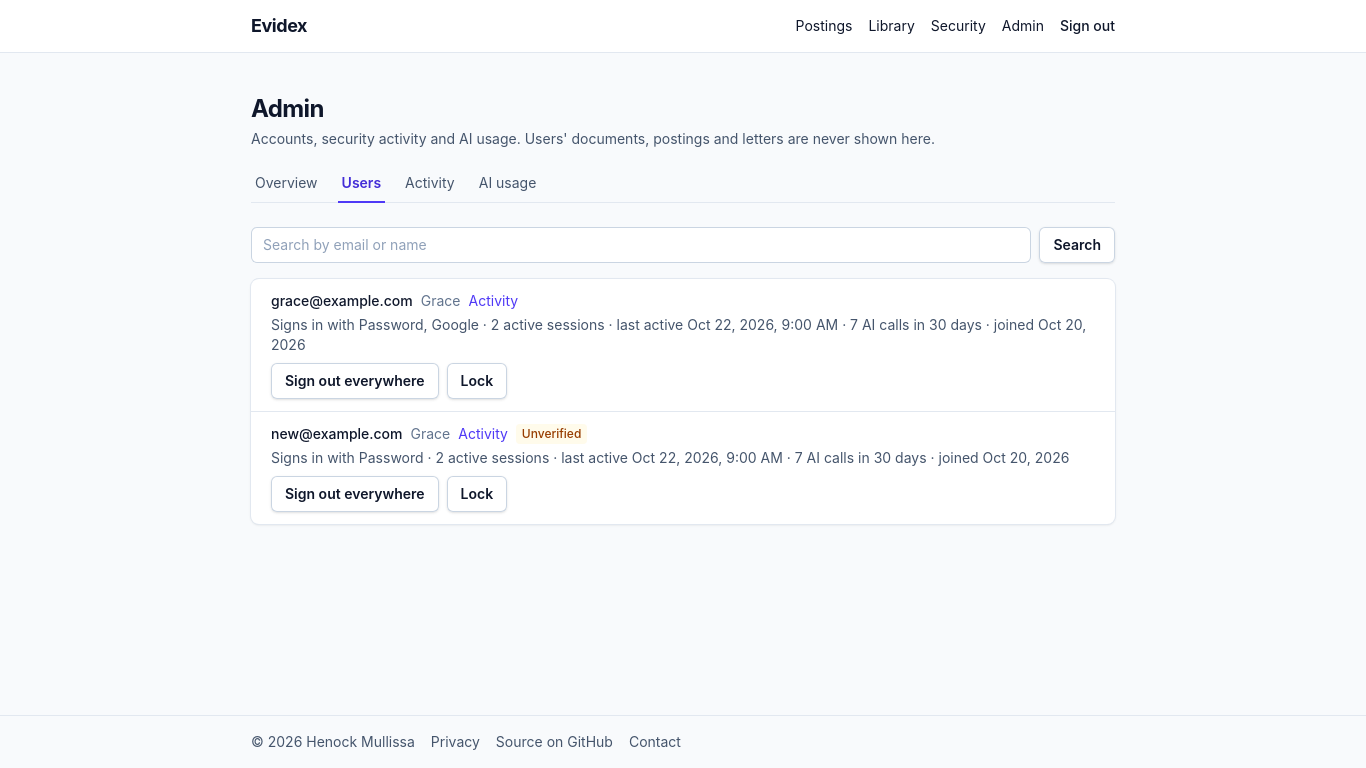
Test: AdminUsersPage › lists accounts with how they sign in and searches them
Expected: the text "grace@example.com" is shown, [271, 291, 413, 311]
Expected: the text "Signs in with Password, Google · 2 active sessions" is shown, [271, 316, 1086, 353]
In the search field labelled "Search by email or name": (641, 245) [251, 227, 1032, 263], type "linus"
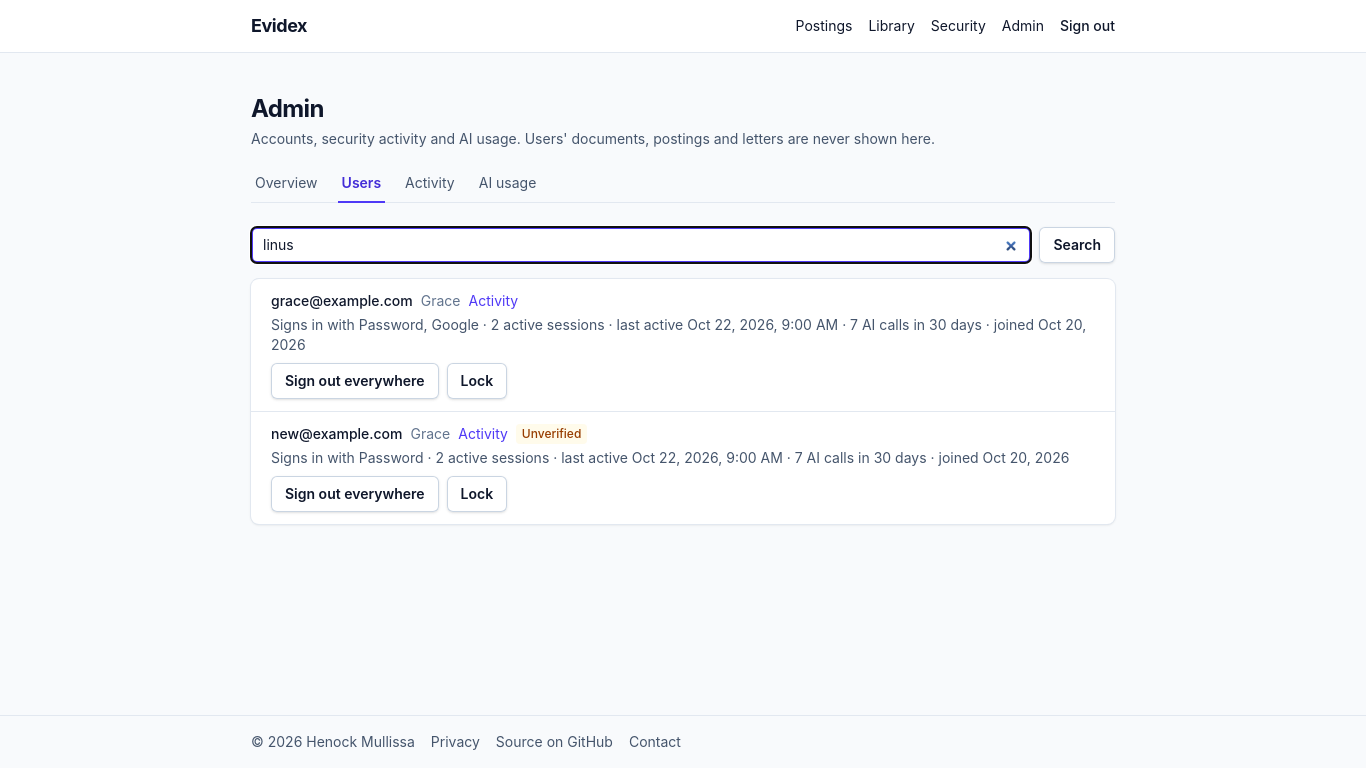
Click the button "Search": (1077, 245) [1040, 227, 1115, 263]
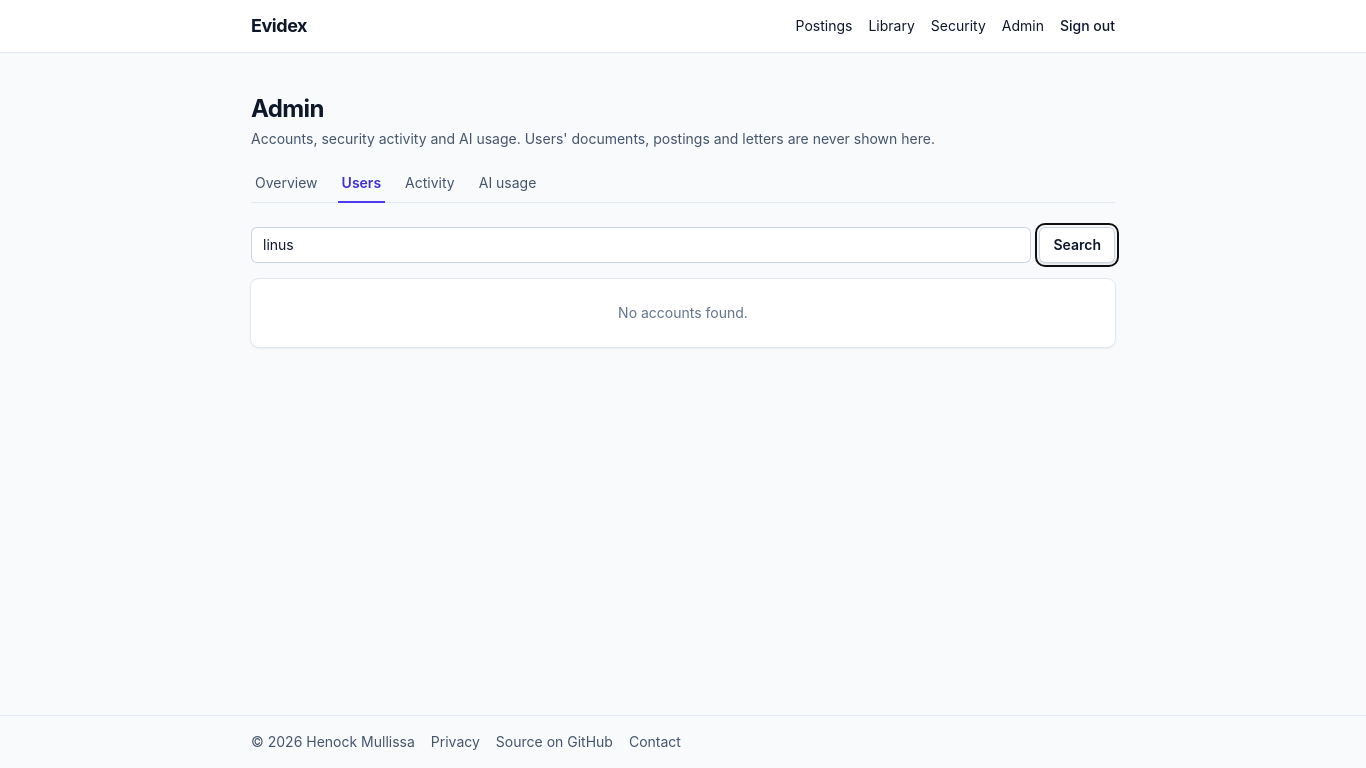
Expected: the list item "No accounts found." is shown, [618, 304, 748, 321]
